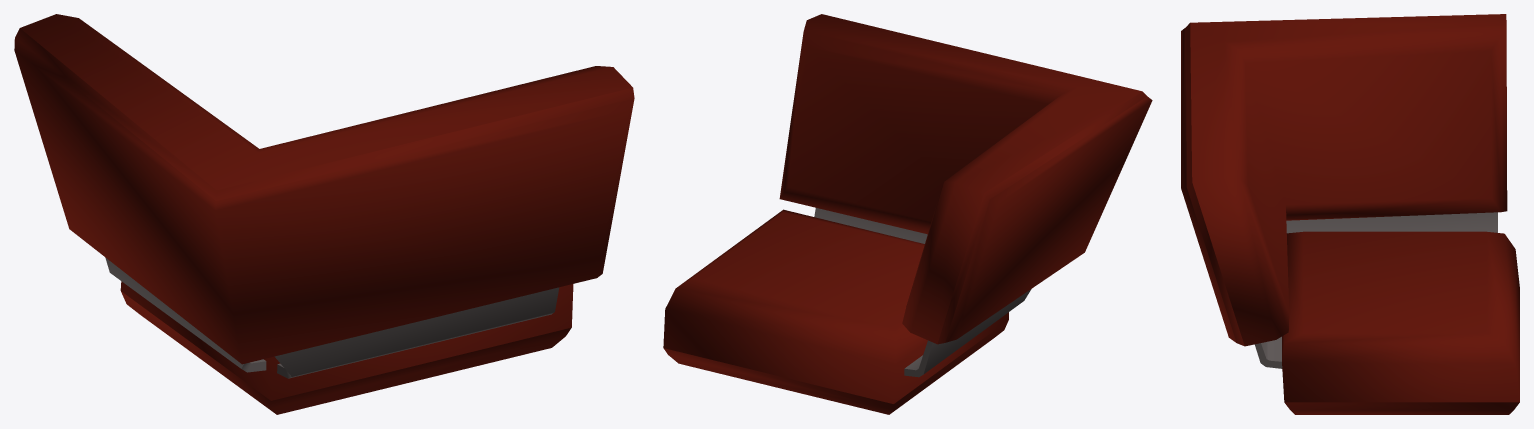
Rendered from sofa3.FBX.
The picture shows the model from 3 angles, left to right: view 1: azimuth 30°, elevation 25°; view 2: azimuth 150°, elevation 25°; view 3: azimuth 270°, elevation 25°; orthographic projection. The views are drawn at different scales.
Parts seen in each view (by area): view 1: Prop_Sci_seat_003, Prop_Sci_seat_004, Box175, Box176; view 2: Prop_Sci_seat_003, Prop_Sci_seat_004, Box176, Box175; view 3: Prop_Sci_seat_003, Prop_Sci_seat_004, Box176, Box175.
Part boxes in pixels (x1,y1,x2,y2): Prop_Sci_seat_003: [14, 14, 634, 364]; Prop_Sci_seat_004: [120, 281, 573, 414]; Box175: [274, 287, 559, 378]; Box176: [105, 257, 266, 372]; Prop_Sci_seat_003: [779, 14, 1152, 344]; Prop_Sci_seat_004: [663, 209, 1008, 414]; Box176: [904, 289, 1031, 377]; Box175: [814, 208, 927, 243]; Prop_Sci_seat_003: [1181, 14, 1507, 346]; Prop_Sci_seat_004: [1282, 231, 1519, 414]; Box176: [1286, 212, 1497, 233]; Box175: [1254, 336, 1282, 368].
Size of the model in its own units: 28.68 by 20.82 by 25.27.
